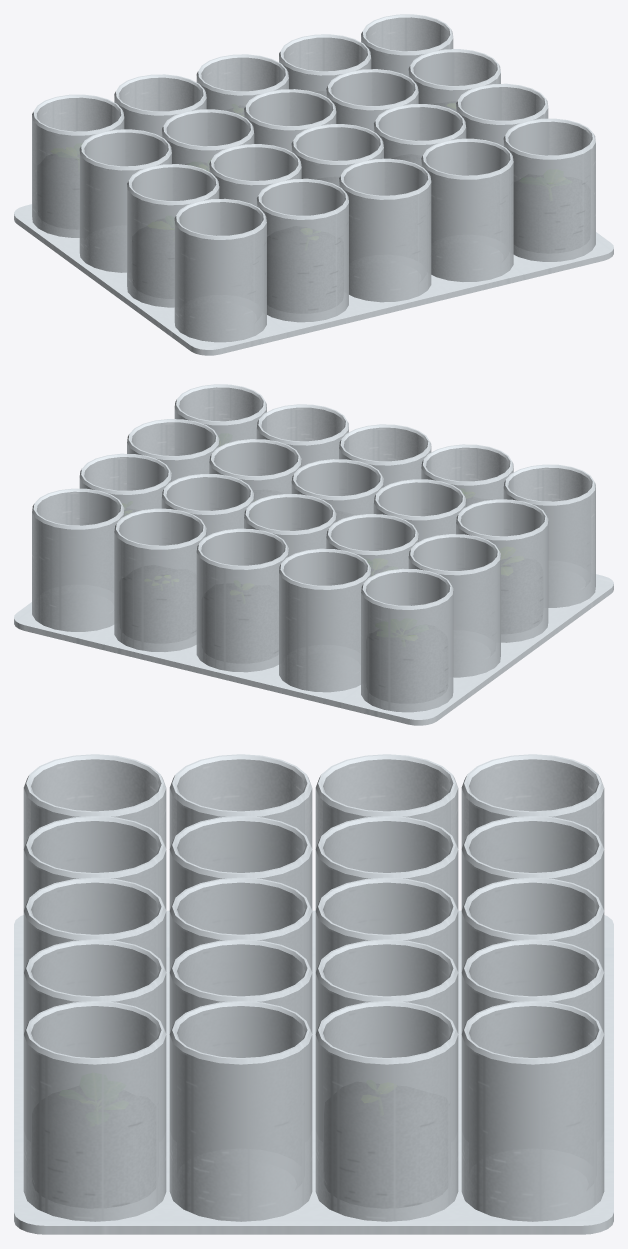
File: 02_Lunar_Regolith_Plant_Growth_Tubes.glb
3 renders of one model, top to bottom at view 1: azimuth 30°, elevation 25°; view 2: azimuth 150°, elevation 25°; view 3: azimuth 270°, elevation 25°, orthographic. The views are drawn at different scales.
Parts seen in each view (by area): view 1: Transparent_Tubes; view 2: Transparent_Tubes; view 3: Transparent_Tubes.
Boxes of the visible parts, box(x1,y1,x2,y2) form: Transparent_Tubes: box(14, 14, 613, 355); Transparent_Tubes: box(14, 384, 613, 725); Transparent_Tubes: box(14, 754, 613, 1234).
Bounding box in the file's own units: 0.092 × 0.0232 × 0.074.
Materials: 3 (3 with a texture image).
